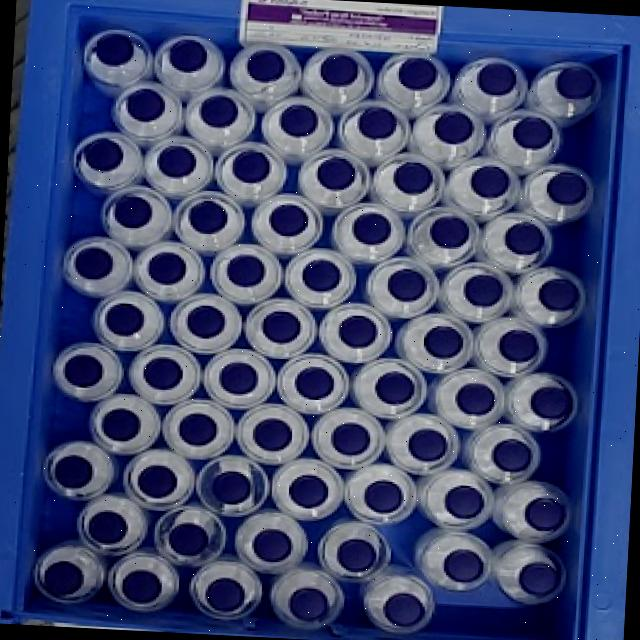vials: (524, 497, 566, 531), (226, 254, 266, 289), (547, 171, 588, 205), (44, 562, 83, 597), (445, 485, 485, 519), (289, 475, 329, 509), (423, 326, 464, 359), (168, 523, 209, 556), (384, 593, 425, 626), (530, 387, 572, 419), (54, 455, 93, 489), (444, 549, 483, 583), (556, 67, 596, 100), (83, 138, 123, 171), (505, 222, 545, 255), (253, 419, 293, 452), (520, 563, 560, 596), (289, 588, 329, 621), (388, 268, 426, 302), (206, 578, 244, 612), (317, 157, 356, 190), (114, 195, 153, 228), (376, 371, 415, 404), (493, 439, 532, 472), (331, 423, 370, 456), (101, 408, 140, 441), (364, 481, 403, 514), (253, 529, 292, 562), (122, 571, 161, 604), (393, 162, 433, 194), (539, 279, 579, 311), (464, 274, 504, 306), (143, 358, 183, 390), (137, 466, 177, 498), (233, 150, 270, 184), (190, 200, 227, 234), (187, 305, 225, 338), (106, 303, 144, 336), (220, 362, 258, 395), (64, 355, 102, 388), (338, 539, 376, 572), (513, 117, 552, 149), (434, 112, 473, 144), (477, 63, 516, 95), (398, 58, 437, 90), (470, 166, 509, 198), (270, 204, 309, 236), (499, 330, 538, 362), (456, 383, 495, 415), (409, 429, 448, 461), (127, 89, 164, 122), (213, 472, 250, 505), (359, 107, 397, 139), (280, 105, 318, 137), (321, 54, 359, 86), (157, 146, 195, 178), (353, 213, 391, 245), (296, 368, 334, 400), (179, 414, 217, 446), (89, 512, 127, 544), (94, 34, 133, 65), (430, 217, 469, 248), (170, 40, 207, 72), (303, 260, 340, 292), (149, 253, 186, 285), (75, 248, 112, 280), (263, 311, 300, 343), (200, 96, 238, 127), (339, 316, 377, 347), (247, 51, 284, 82)
